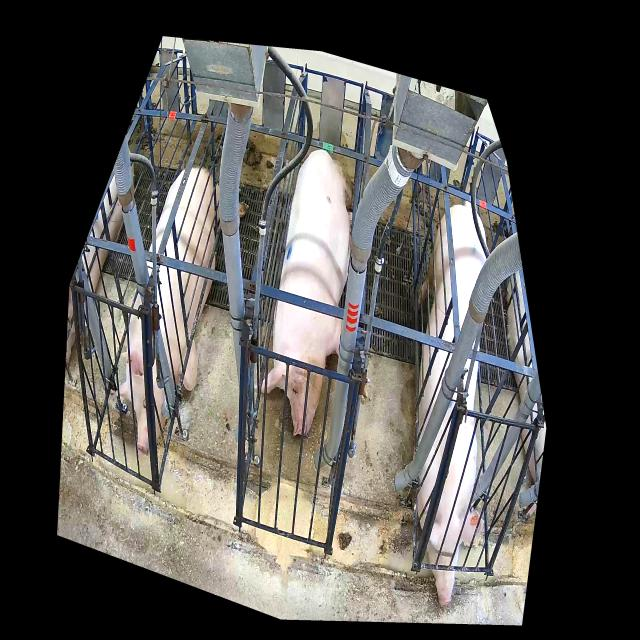pig: (109, 164, 249, 456), (413, 201, 487, 605), (253, 149, 354, 437)
